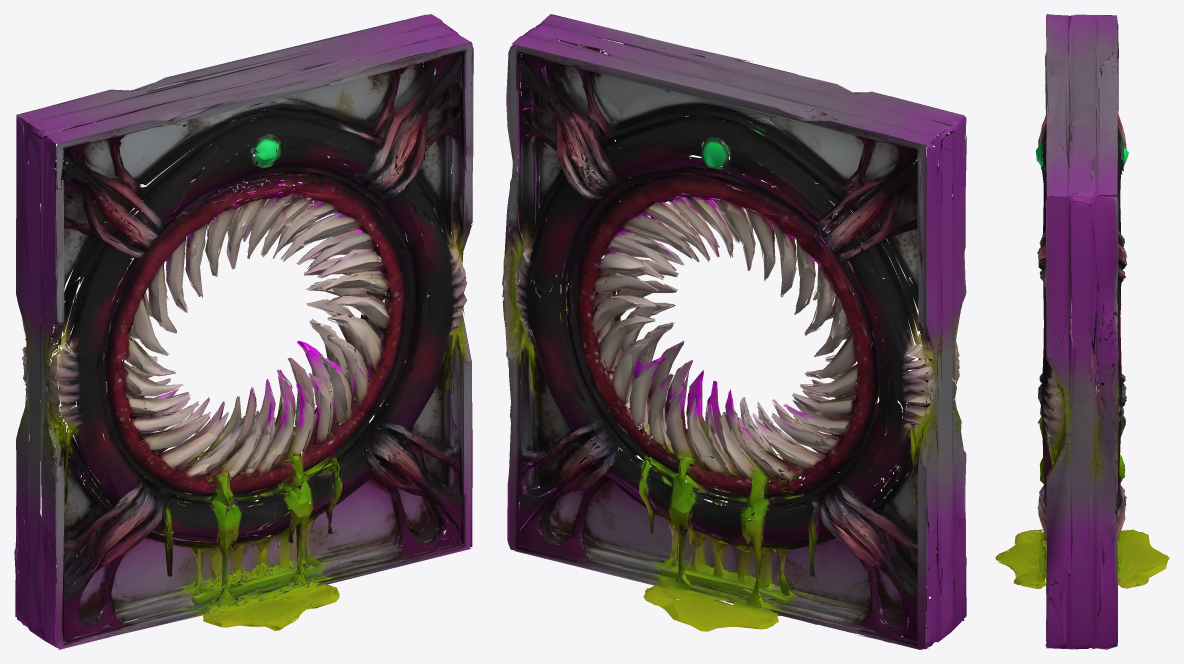
File: hive_sphincter_iris.glb
3 renders of one model, left to right at view 1: azimuth 30°, elevation 25°; view 2: azimuth 150°, elevation 25°; view 3: azimuth 270°, elevation 25°, orthographic. The views are drawn at different scales.
Visible parts, largest first — view 1: node_0; view 2: node_0; view 3: node_0.
Boxes of the visible parts, x1=… form: node_0: x1=14, y1=14, x2=473, y2=649; node_0: x1=502, y1=14, x2=966, y2=649; node_0: x1=995, y1=14, x2=1169, y2=649.
Size of the model in its own units: 0.7898 by 0.9132 by 0.312.
Materials: 1 (1 with a texture image).
